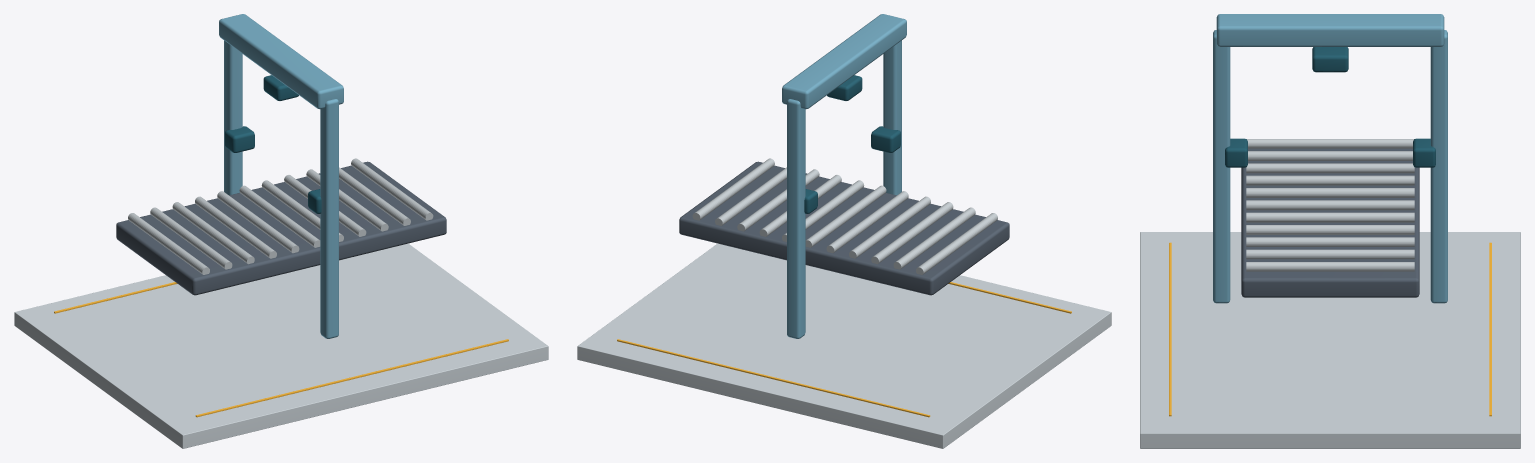
3 renders of one model, left to right at view 1: azimuth 30°, elevation 25°; view 2: azimuth 150°, elevation 25°; view 3: azimuth 270°, elevation 25°, orthographic. The views are drawn at different scales.
Visible parts, largest first — view 1: Ground plane, Roller conveyor, Scanner crossbeam, Scanner tunnel post, Scanner tunnel post.001, Concept clearance guide, Conveyor roller.001, Conveyor roller.002, Conveyor roller.004, Conveyor roller.010, Conveyor roller.005, Conveyor roller.003 (+7 smaller); view 2: Ground plane, Roller conveyor, Scanner crossbeam, Scanner tunnel post.001, Scanner tunnel post, Concept clearance guide.001, Conveyor roller.001, Conveyor roller.002, Conveyor roller.004, Conveyor roller.010, Conveyor roller.005, Conveyor roller.003 (+7 smaller); view 3: Ground plane, Roller conveyor, Scanner crossbeam, Scanner tunnel post, Scanner tunnel post.001, Conveyor roller.003, Conveyor roller.005, Conveyor roller.006, Conveyor roller.009, Conveyor roller.002, Conveyor roller.004, Conveyor roller.007 (+9 smaller).
Part boxes in pixels (x1=…): Ground plane: x1=14, y1=243, x2=548, y2=448; Roller conveyor: x1=116, y1=161, x2=446, y2=295; Scanner crossbeam: x1=219, y1=14, x2=343, y2=109; Scanner tunnel post: x1=320, y1=99, x2=338, y2=338; Scanner tunnel post.001: x1=224, y1=40, x2=242, y2=195; Concept clearance guide: x1=195, y1=339, x2=508, y2=417; Conveyor roller.001: x1=150, y1=207, x2=232, y2=269; Conveyor roller.002: x1=172, y1=202, x2=254, y2=264; Conveyor roller.004: x1=217, y1=191, x2=299, y2=253; Conveyor roller.010: x1=351, y1=158, x2=433, y2=220; Conveyor roller.005: x1=239, y1=185, x2=320, y2=247; Conveyor roller.003: x1=195, y1=196, x2=276, y2=258; Ground plane: x1=577, y1=243, x2=1111, y2=448; Roller conveyor: x1=679, y1=161, x2=1009, y2=295; Scanner crossbeam: x1=782, y1=14, x2=906, y2=109; Scanner tunnel post.001: x1=787, y1=99, x2=805, y2=338; Scanner tunnel post: x1=883, y1=40, x2=901, y2=195; Concept clearance guide.001: x1=617, y1=339, x2=930, y2=417; Conveyor roller.001: x1=893, y1=207, x2=975, y2=269; Conveyor roller.002: x1=871, y1=202, x2=953, y2=264; Conveyor roller.004: x1=826, y1=191, x2=908, y2=253; Conveyor roller.010: x1=692, y1=158, x2=774, y2=220; Conveyor roller.005: x1=805, y1=185, x2=886, y2=247; Conveyor roller.003: x1=849, y1=196, x2=930, y2=258; Ground plane: x1=1140, y1=232, x2=1520, y2=448; Roller conveyor: x1=1241, y1=148, x2=1419, y2=297; Scanner crossbeam: x1=1216, y1=14, x2=1444, y2=46; Scanner tunnel post: x1=1213, y1=30, x2=1230, y2=303; Scanner tunnel post.001: x1=1430, y1=30, x2=1447, y2=303; Conveyor roller.003: x1=1246, y1=175, x2=1414, y2=185; Conveyor roller.005: x1=1246, y1=200, x2=1414, y2=210; Conveyor roller.006: x1=1246, y1=212, x2=1414, y2=222; Conveyor roller.009: x1=1246, y1=249, x2=1414, y2=259; Conveyor roller.002: x1=1246, y1=163, x2=1414, y2=173; Conveyor roller.004: x1=1246, y1=188, x2=1414, y2=197; Conveyor roller.007: x1=1246, y1=225, x2=1414, y2=234.
Bounding box in the file's own units: 3.28 × 2.49 × 2.62.
